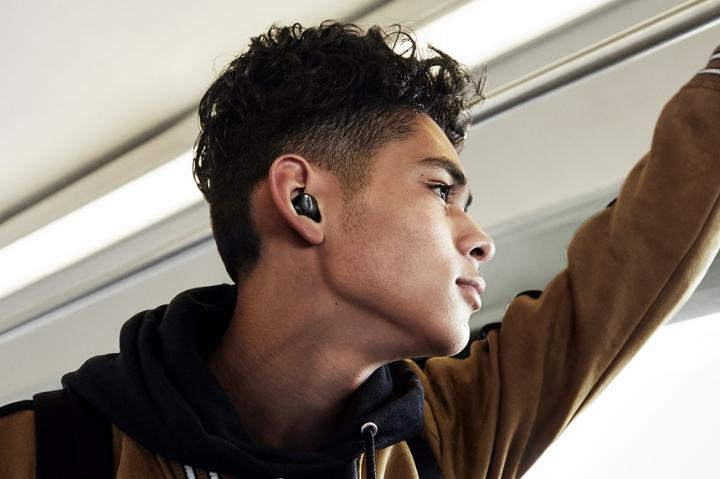earphone: (289, 186, 329, 222)
